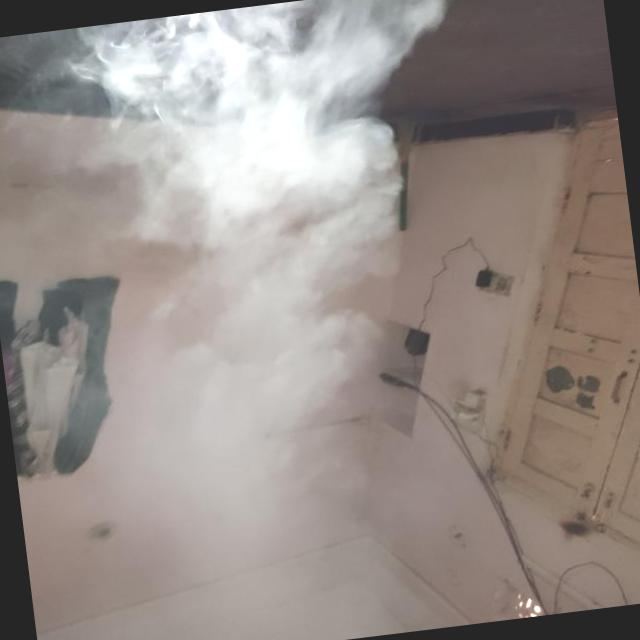smoke: (135, 0, 472, 405)
